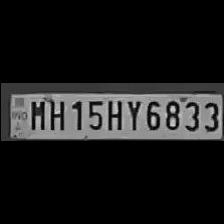1: (66, 97, 84, 131)
3: (182, 98, 200, 132), (200, 98, 218, 132)
5: (84, 97, 103, 131)
6: (141, 97, 161, 131)
8: (162, 97, 180, 131)
H: (45, 97, 65, 131), (104, 97, 124, 131)
M: (24, 97, 46, 130)
Y: (122, 97, 142, 131)
